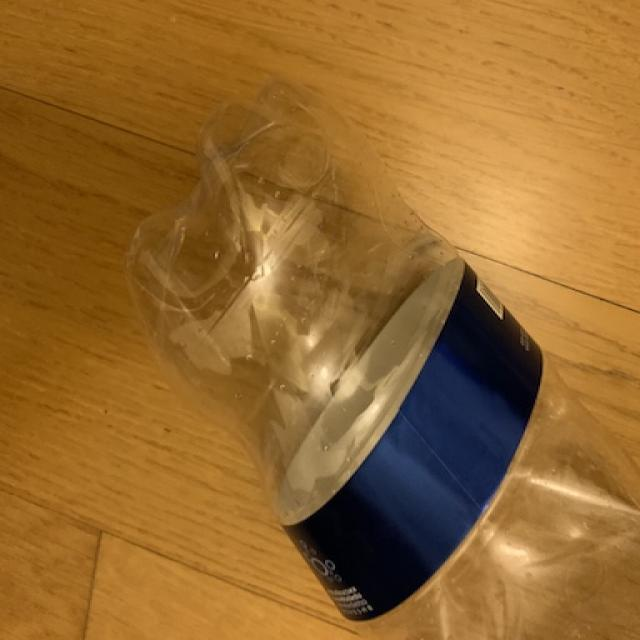Waste: (130, 80, 638, 639)
